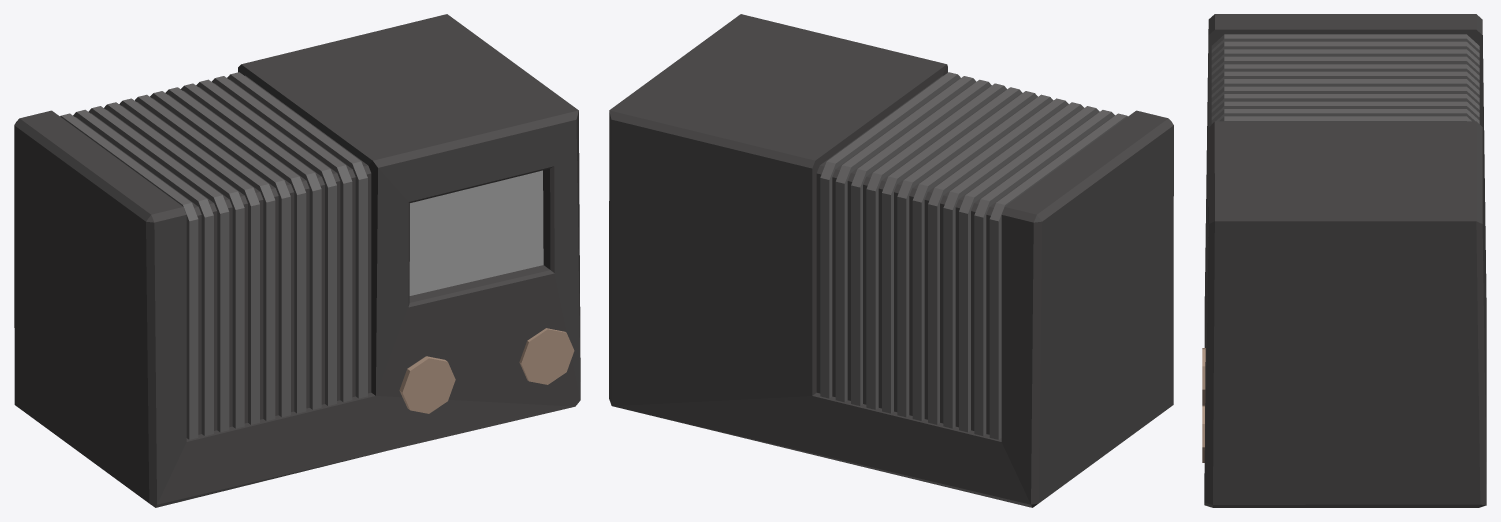
Rendered from Radio.fbx.
3 renders of one model, left to right at view 1: azimuth 30°, elevation 25°; view 2: azimuth 150°, elevation 25°; view 3: azimuth 270°, elevation 25°, orthographic.
Visible parts, largest first — view 1: Radio; view 2: Radio; view 3: Radio.
Boxes of the visible parts, left/top/right/bottom form: Radio: left=14, top=14, right=580, bottom=507; Radio: left=609, top=14, right=1173, bottom=507; Radio: left=1202, top=14, right=1486, bottom=507.
Bounding box in the file's own units: 55.72 × 31.95 × 35.94.
